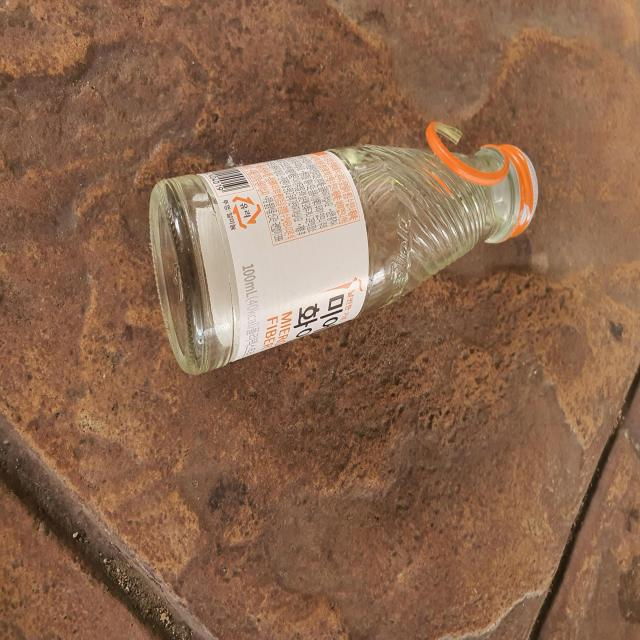glass: (149, 121, 539, 374)
